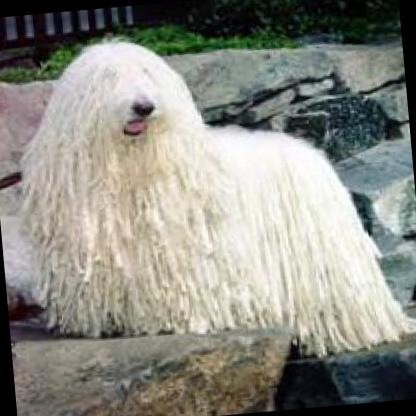komondor: (1, 11, 416, 382)
